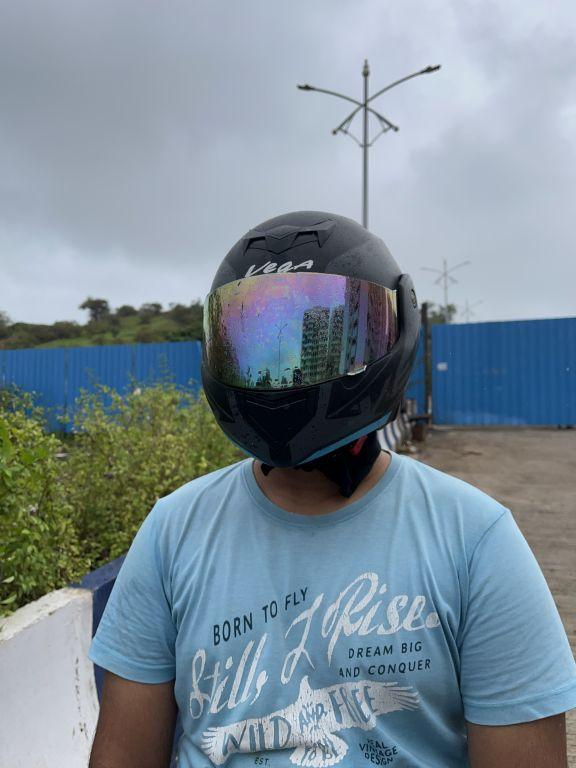helmet: (184, 200, 434, 495)
